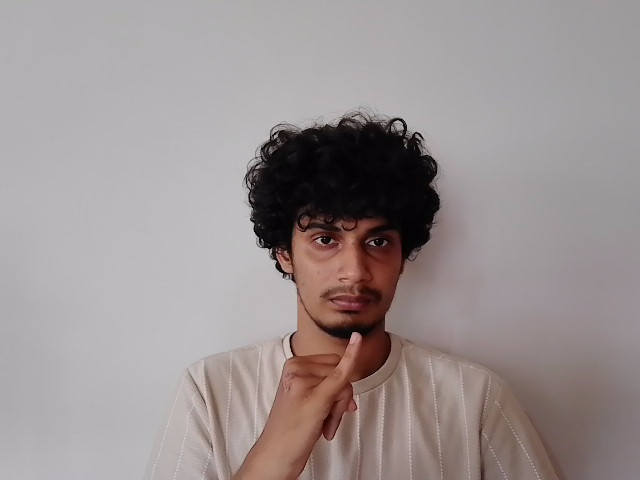bad: (268, 330, 362, 456)
